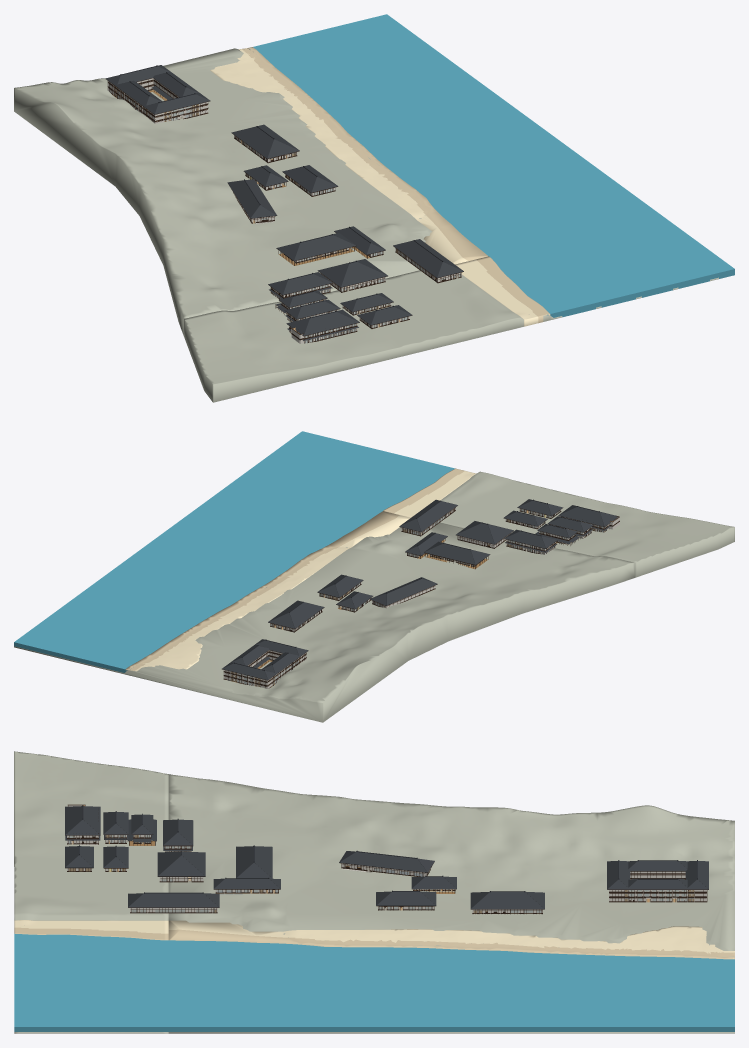
The model's file is longevity-tas.glb.
The picture shows the model from 3 angles, top to bottom: view 1: azimuth 30°, elevation 25°; view 2: azimuth 150°, elevation 25°; view 3: azimuth 270°, elevation 25°; orthographic projection. The views are drawn at different scales.
Visible parts, largest first — view 1: Deniz_Yuzeyi, Arazi_Zemin, Arazi_Zemin_Guney, Kumsal, J_8_Konaklama_roof_cati, Kumsal_Guney, J_4a_Fitness_1_roof_cati, J_6_Beslenme_roof_cati, J_5a_Wellness_Havuz_roof_cati, J_3a_Egitim_A_roof_cati, J_1_Saglik_Taramasi_roof_cati, J_4b_Fitness_2_roof_cati (+3 smaller); view 2: Deniz_Yuzeyi, Arazi_Zemin, Arazi_Zemin_Guney, Kumsal, J_8_Konaklama_roof_cati, Kumsal_Guney, J_4a_Fitness_1_roof_cati, J_6_Beslenme_roof_cati, J_5a_Wellness_Havuz_roof_cati, J_3a_Egitim_A_roof_cati, J_4b_Fitness_2_roof_cati, J_1_Saglik_Taramasi_roof_cati (+2 smaller); view 3: Deniz_Yuzeyi, Arazi_Zemin, Arazi_Zemin_Guney, Kumsal, J_8_Konaklama_roof_cati, Kumsal_Guney, J_4a_Fitness_1_roof_cati, J_6_Beslenme_roof_cati, J_5a_Wellness_Havuz_roof_cati, J_3a_Egitim_A_roof_cati, J_4b_Fitness_2_roof_cati, J_1_Saglik_Taramasi_roof_cati (+9 smaller).
Boxes of the visible parts, bbox=[...] form: Deniz_Yuzeyi: bbox=[253, 14, 734, 317]; Arazi_Zemin: bbox=[14, 48, 431, 335]; Arazi_Zemin_Guney: bbox=[184, 270, 718, 402]; Kumsal: bbox=[210, 47, 487, 264]; J_8_Konaklama_roof_cati: bbox=[105, 65, 210, 114]; Kumsal_Guney: bbox=[455, 256, 550, 326]; J_4a_Fitness_1_roof_cati: bbox=[393, 239, 463, 277]; J_6_Beslenme_roof_cati: bbox=[231, 124, 299, 158]; J_5a_Wellness_Havuz_roof_cati: bbox=[318, 259, 387, 287]; J_3a_Egitim_A_roof_cati: bbox=[276, 233, 356, 260]; J_1_Saglik_Taramasi_roof_cati: bbox=[286, 309, 359, 340]; J_4b_Fitness_2_roof_cati: bbox=[227, 179, 276, 218]; Deniz_Yuzeyi: bbox=[14, 431, 454, 672]; Arazi_Zemin: bbox=[14, 522, 635, 722]; Arazi_Zemin_Guney: bbox=[440, 471, 734, 577]; Kumsal: bbox=[125, 511, 410, 671]; J_8_Konaklama_roof_cati: bbox=[222, 639, 308, 680]; Kumsal_Guney: bbox=[383, 468, 476, 517]; J_4a_Fitness_1_roof_cati: bbox=[399, 499, 457, 531]; J_6_Beslenme_roof_cati: bbox=[268, 600, 324, 628]; J_5a_Wellness_Havuz_roof_cati: bbox=[456, 521, 513, 544]; J_3a_Egitim_A_roof_cati: bbox=[424, 541, 489, 564]; J_4b_Fitness_2_roof_cati: bbox=[370, 577, 437, 605]; J_1_Saglik_Taramasi_roof_cati: bbox=[558, 505, 618, 530]; Deniz_Yuzeyi: bbox=[14, 933, 734, 1031]; Arazi_Zemin: bbox=[168, 774, 734, 1033]; Arazi_Zemin_Guney: bbox=[14, 751, 168, 1033]; Kumsal: bbox=[168, 920, 734, 959]; J_8_Konaklama_roof_cati: bbox=[607, 861, 708, 889]; Kumsal_Guney: bbox=[14, 920, 168, 940]; J_4a_Fitness_1_roof_cati: bbox=[128, 893, 219, 907]; J_6_Beslenme_roof_cati: bbox=[470, 891, 544, 909]; J_5a_Wellness_Havuz_roof_cati: bbox=[157, 851, 205, 876]; J_3a_Egitim_A_roof_cati: bbox=[236, 846, 272, 878]; J_4b_Fitness_2_roof_cati: bbox=[339, 851, 434, 872]; J_1_Saglik_Taramasi_roof_cati: bbox=[65, 806, 100, 840].
Size of the model in its own units: 357 by 25 by 412.
